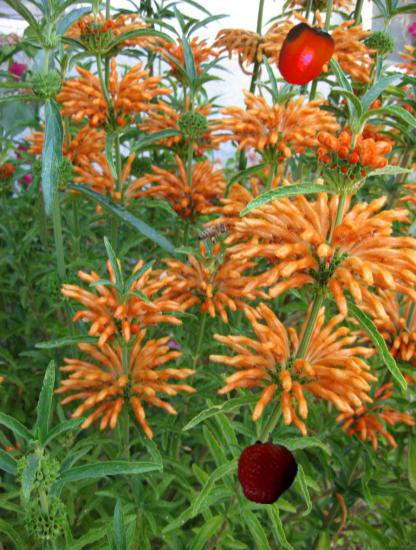Kaki: (271, 22, 336, 87)
Strawberry: (232, 432, 305, 505)
